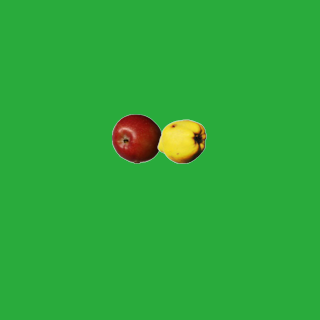Apple Braeburn: (111, 113, 161, 163)
Quince: (156, 116, 206, 166)
